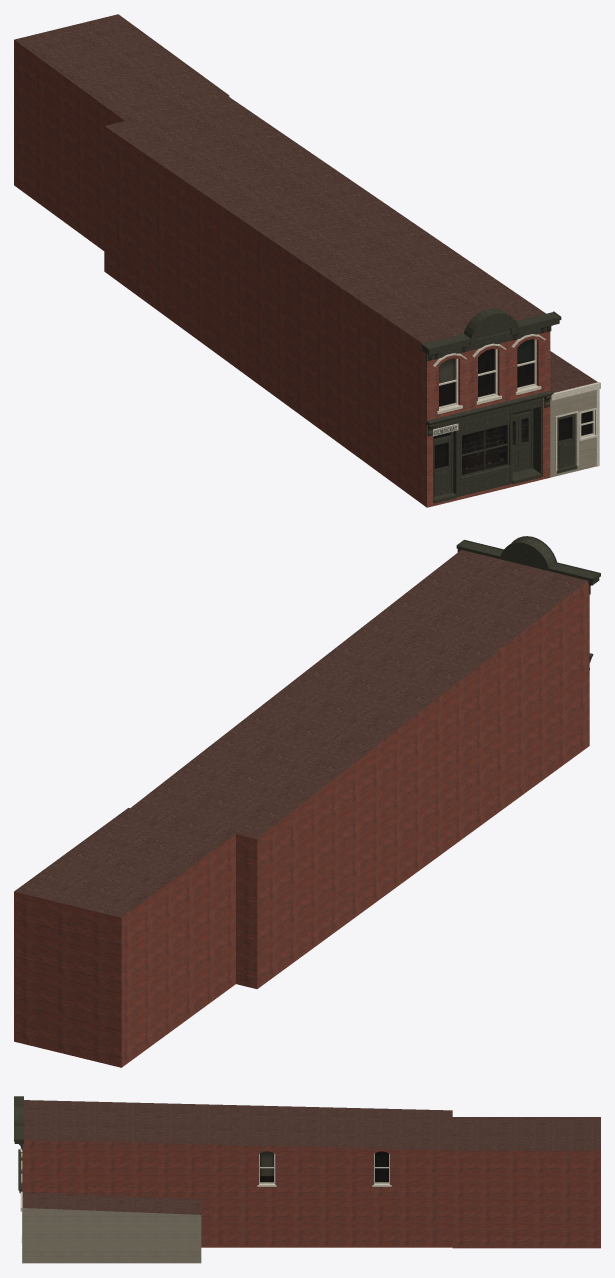
Rendered from democrat-building.glb.
3 views of the same model, one above another, from view 1: azimuth 30°, elevation 25°; view 2: azimuth 150°, elevation 25°; view 3: azimuth 270°, elevation 25° (orthographic). The views are drawn at different scales.
Parts seen in each view (by area): view 1: DemocratBuilding; view 2: DemocratBuilding; view 3: DemocratBuilding.
Boxes of the visible parts, x1,y1,x2,y2 form: DemocratBuilding: [14, 14, 600, 507]; DemocratBuilding: [14, 536, 600, 1067]; DemocratBuilding: [14, 1096, 600, 1263].
Size of the model in its own units: 7.13 by 7.05 by 30.66.
8 materials, 7 textured.
